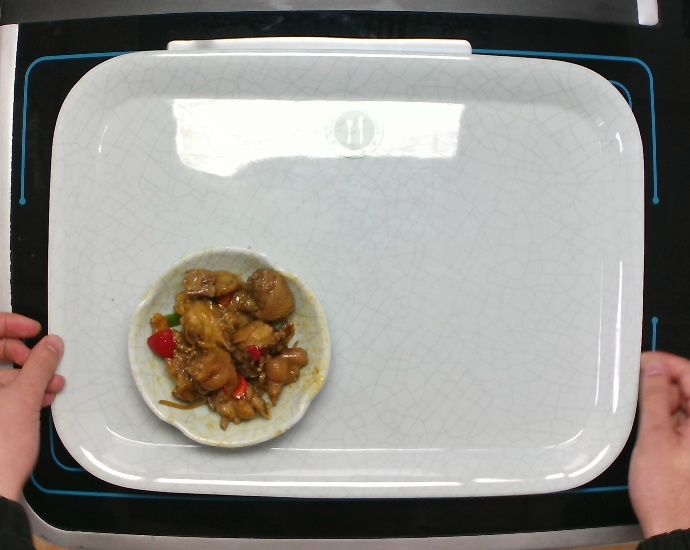JYsf-Ao_Yuan_Wan: (124, 245, 335, 449)
